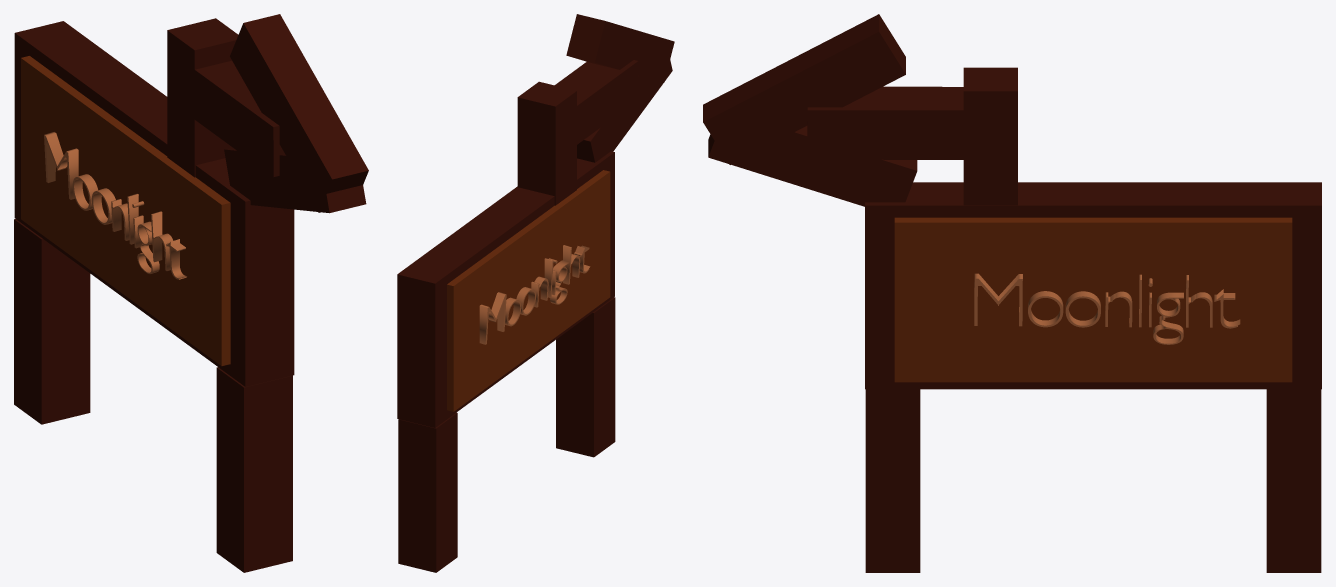
File: Moonlight SIgn.fbx
The picture shows the model from 3 angles, left to right: view 1: azimuth 30°, elevation 25°; view 2: azimuth 150°, elevation 25°; view 3: azimuth 270°, elevation 25°; orthographic projection. The views are drawn at different scales.
Visible parts, largest first — view 1: Cube.005, Text; view 2: Cube.005, Text; view 3: Cube.005, Text.001.
Boxes of the visible parts, x1,y1,x2,y2 form: Cube.005: (14,14,368,572); Text: (44,132,186,279); Cube.005: (397,14,674,572); Text: (479,245,590,344); Cube.005: (703,14,1321,572); Text.001: (974,273,1240,344).
Bounding box in the file's own units: 100 × 587 × 611.
